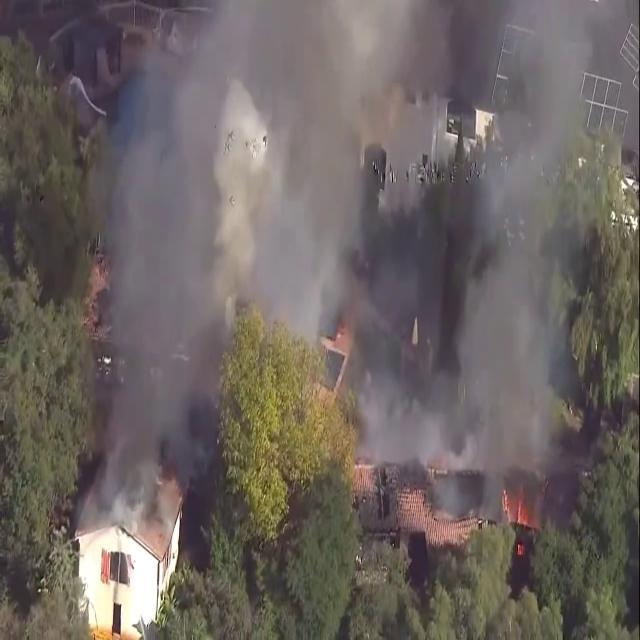Smoke: (77, 1, 612, 494)
